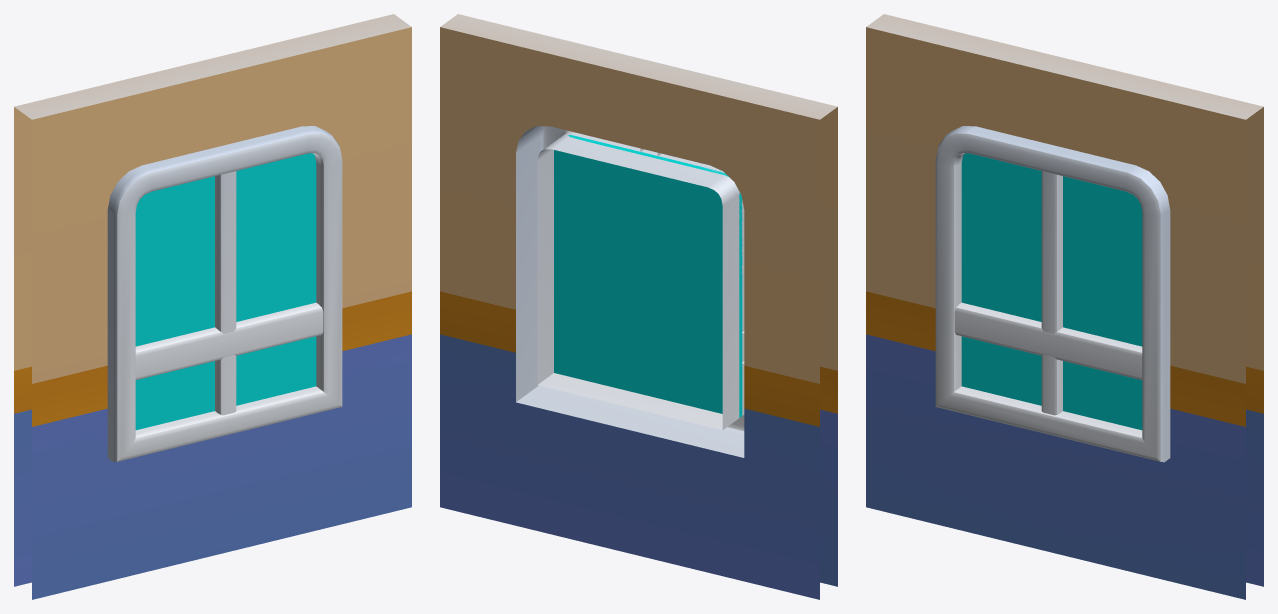
The model's file is Wall_Window.fbx.
The picture shows the model from 3 angles, left to right: view 1: azimuth 30°, elevation 25°; view 2: azimuth 150°, elevation 25°; view 3: azimuth 330°, elevation 25°; orthographic projection.
Parts seen in each view (by area): view 1: Wall_Window; view 2: Wall_Window; view 3: Wall_Window.
Part boxes in pixels (box(x1,y1,x2,y2)): Wall_Window: box(14, 14, 411, 599); Wall_Window: box(440, 14, 837, 599); Wall_Window: box(866, 14, 1263, 599).
Size of the model in its own units: 103 by 125 by 12.59.
